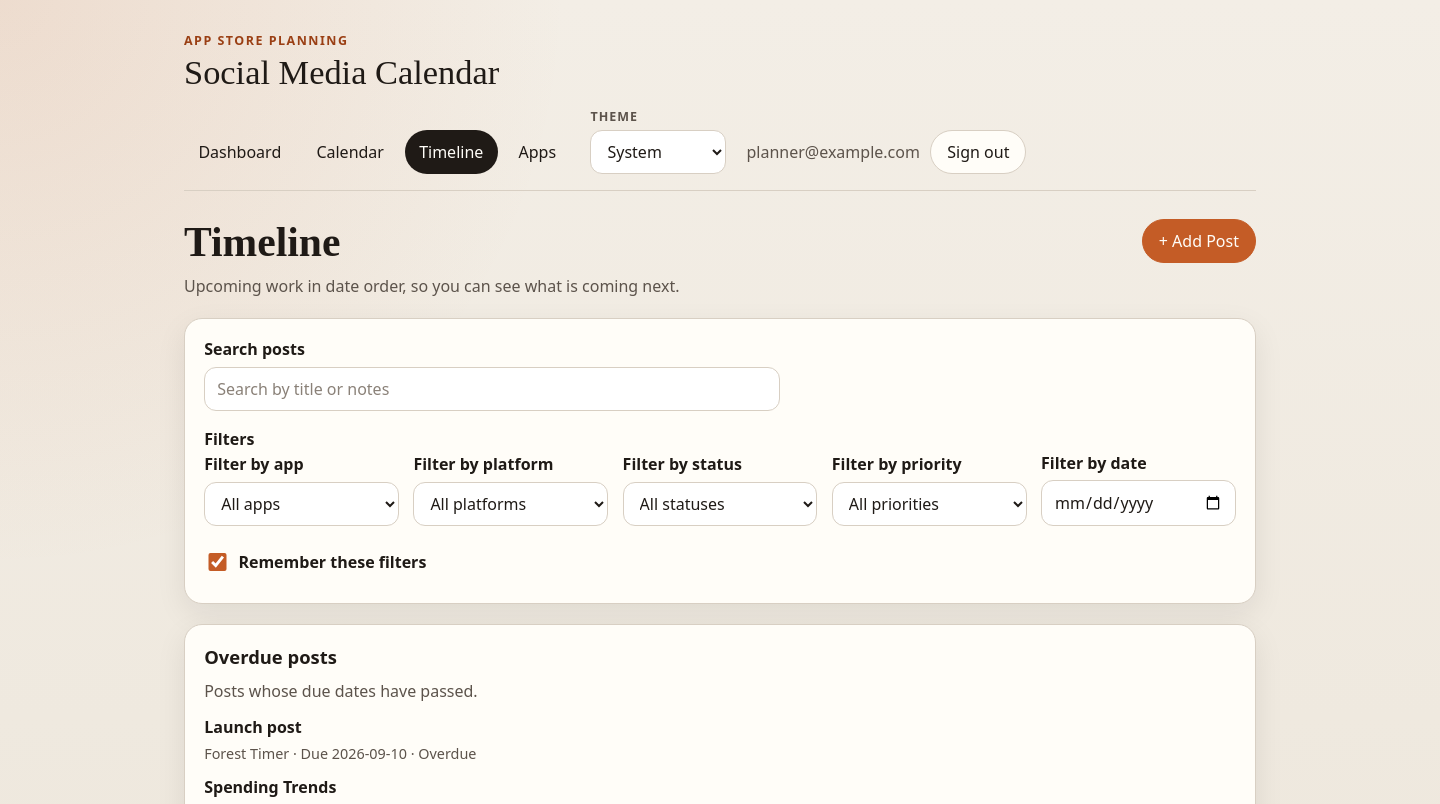
B-012 filter and search posts › says when no posts match the filters
Select "Cancelled" in the dropdown labelled "Filter by status" at (720, 504), box [623,482,817,526]
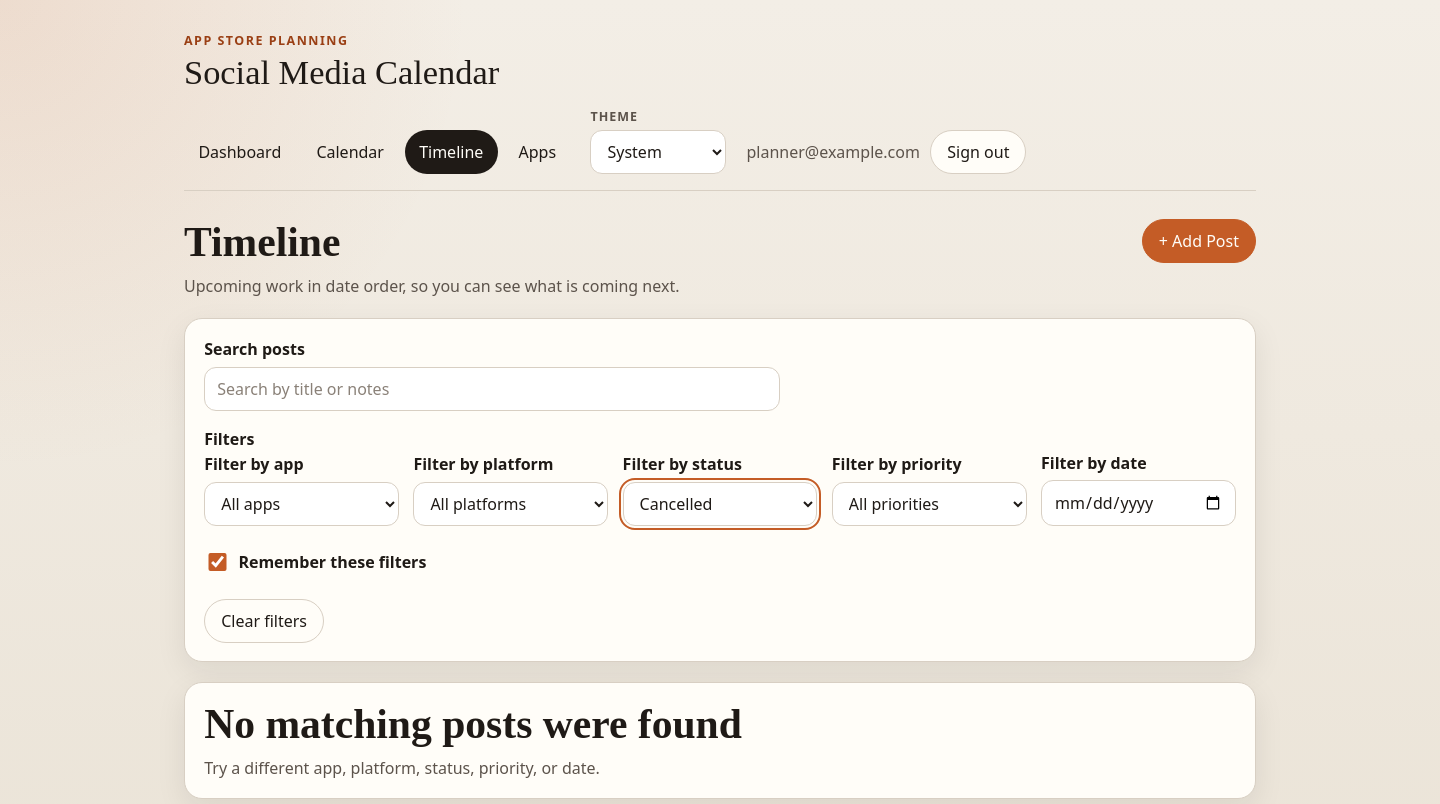
Check: the heading "No matching posts were found" is shown, box [204,701,742,747]
